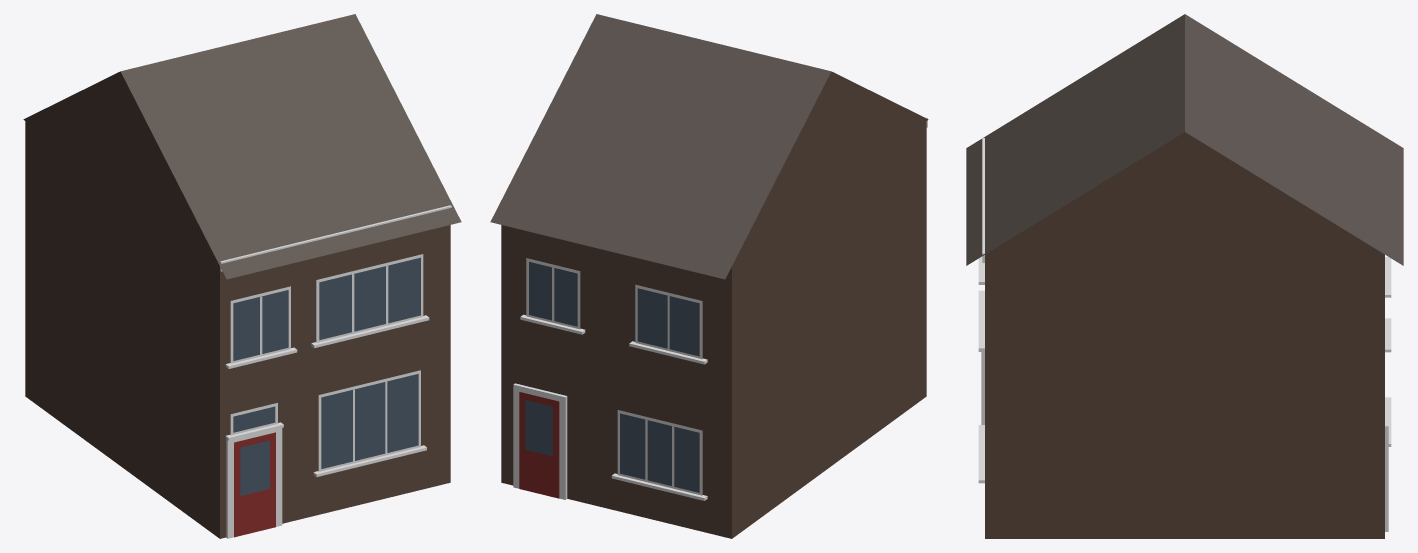
File: nd-to-row__wide__2__gable__long__solid__f0d0.glb
The picture shows the model from 3 angles, left to right: view 1: azimuth 30°, elevation 25°; view 2: azimuth 150°, elevation 25°; view 3: azimuth 270°, elevation 25°; orthographic projection. The views are drawn at different scales.
Parts seen in each view (by area): view 1: nd-to-row__wide__2__gable__long__solid__f0d0; view 2: nd-to-row__wide__2__gable__long__solid__f0d0; view 3: nd-to-row__wide__2__gable__long__solid__f0d0.
Boxes of the visible parts, x1,y1,x2,y2 form: nd-to-row__wide__2__gable__long__solid__f0d0: (23, 14, 461, 538); nd-to-row__wide__2__gable__long__solid__f0d0: (490, 14, 928, 538); nd-to-row__wide__2__gable__long__solid__f0d0: (966, 14, 1403, 538).
Bounding box in the file's own units: 5.31 × 8.58 × 8.32.
